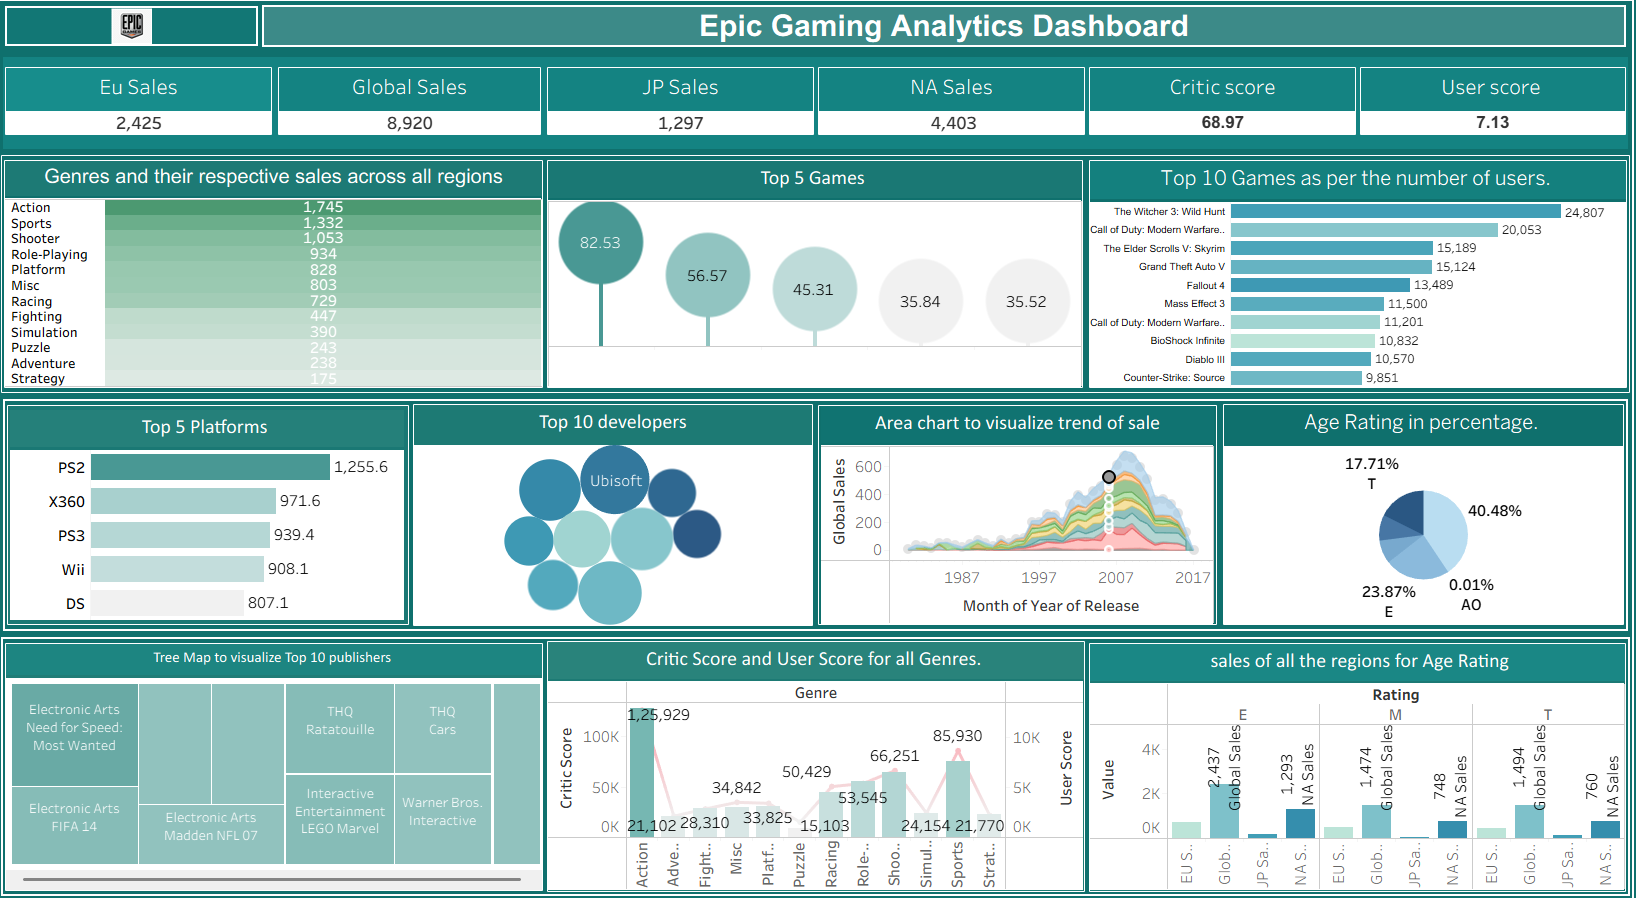

Layout of this report page (visuals, bound fields, positions):
{"tool":"tableau","page":{"name":"Dashboard 1","canvas":[1000,1000],"units":"permille","ordinal":0},"visuals":[{"type":"image","param":"Image/346810.jpg","box":[9.7,17.4,155.1,52.1]},{"type":"text","box":[164.8,17.4,825.6,52.1]},{"type":"worksheet","title":"Eu Sales","mark":"Automatic","box":[9.7,73.8,163.5,99.9]},{"type":"worksheet","title":"Global Sales","mark":"Automatic","box":[173.2,73.8,163.6,99.9]},{"type":"worksheet","title":"JP Sales","mark":"Automatic","box":[336.8,73.8,163.6,99.9]},{"type":"worksheet","title":"NASales ","mark":"Automatic","box":[500.3,73.8,163.6,99.9]},{"type":"worksheet","title":"Critic score","mark":"Automatic","box":[663.9,73.8,163.6,99.9]},{"type":"worksheet","title":"User score ","mark":"Automatic","box":[827.4,73.8,162.9,99.9]},{"type":"worksheet","title":"various Genres ","mark":"Square","rows":["Genre"],"box":[9.1,181.3,327.7,256.2]},{"type":"worksheet","title":"Top 5 Games ","mark":"Automatic","rows":["Global_Sales","Global_Sales"],"cols":["Name"],"box":[336.8,181.3,327.1,256.2]},{"type":"worksheet","title":"Top 10 Games per user","mark":"Automatic","rows":["Name"],"cols":["User_Count"],"box":[663.9,181.3,327.1,256.2]},{"type":"worksheet","title":"Top 5 Platforms ","mark":"Automatic","rows":["Platform"],"cols":["Global_Sales"],"box":[10.9,447.3,245,259.5]},{"type":"worksheet","title":" Top 10 developers ","mark":"Circle","box":[255.9,447.3,244.4,259.5]},{"type":"worksheet","title":"Area chart","mark":"Area","rows":["Global_Sales","Global_Sales"],"cols":["Year_of_Release"],"box":[500.3,447.3,244.4,259.5]},{"type":"worksheet","title":"pie chart","mark":"Pie","box":[744.7,447.3,244.4,259.5]},{"type":"worksheet","title":"Tree Map","mark":"Automatic","box":[9.7,717.7,327.1,264.9]},{"type":"worksheet","title":"combo chart of Line and Bar ","mark":"Automatic","rows":["Critic_Score","User_Score"],"cols":["Genre"],"box":[336.8,717.7,327.1,264.9]},{"type":"worksheet","title":"side by side bar ","mark":"Bar","cols":["Rating"],"box":[663.9,717.7,326.5,264.9]}]}

Visuals, with their boxes on the dashboard's canvas, which has no fixed pixel size, in thousandths of its width and height (x1, y1, x2, y2). These are canvas units, not pixel positions in the 1637x898 screenshot, which may show the page scaled, cropped or inside an application window:
image: (10, 17, 165, 70)
text: (165, 17, 990, 70)
"Eu Sales" worksheet: (10, 74, 173, 174)
"Global Sales" worksheet: (173, 74, 337, 174)
"JP Sales" worksheet: (337, 74, 500, 174)
"NASales " worksheet: (500, 74, 664, 174)
"Critic score" worksheet: (664, 74, 828, 174)
"User score " worksheet: (827, 74, 990, 174)
"various Genres " worksheet (Square marks): (9, 181, 337, 438)
"Top 5 Games " worksheet: (337, 181, 664, 438)
"Top 10 Games per user" worksheet: (664, 181, 991, 438)
"Top 5 Platforms " worksheet: (11, 447, 256, 707)
" Top 10 developers " worksheet (Circle marks): (256, 447, 500, 707)
"Area chart" worksheet (Area marks): (500, 447, 745, 707)
"pie chart" worksheet (Pie marks): (745, 447, 989, 707)
"Tree Map" worksheet: (10, 718, 337, 983)
"combo chart of Line and Bar " worksheet: (337, 718, 664, 983)
"side by side bar " worksheet (Bar marks): (664, 718, 990, 983)
